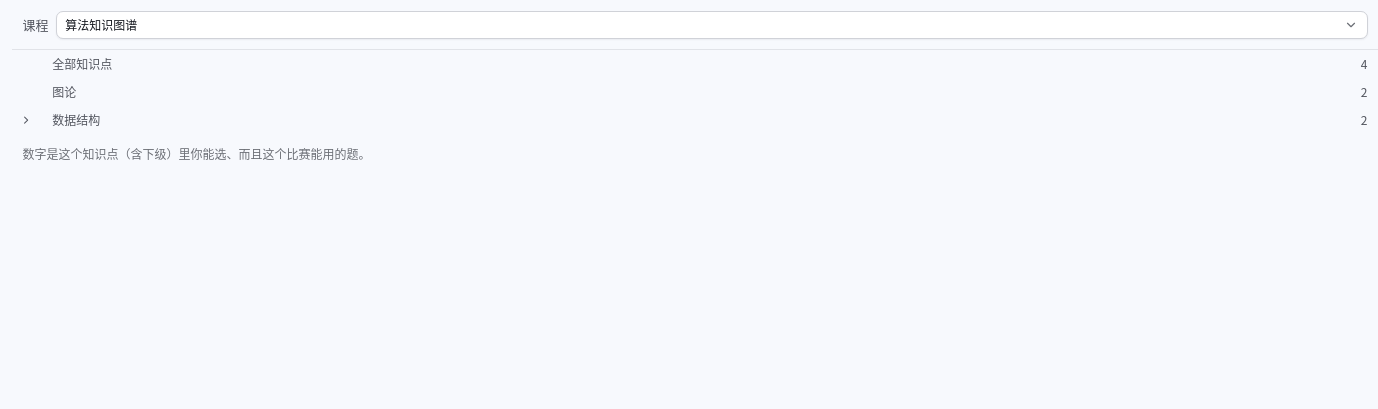
Scenario: compose bank pane › marks problems already in the paper with a disabled check and a check icon
The image size is (1378, 409).
Step 1. Click the button "图论" → (64,92), box 44,78 -> 1357,106
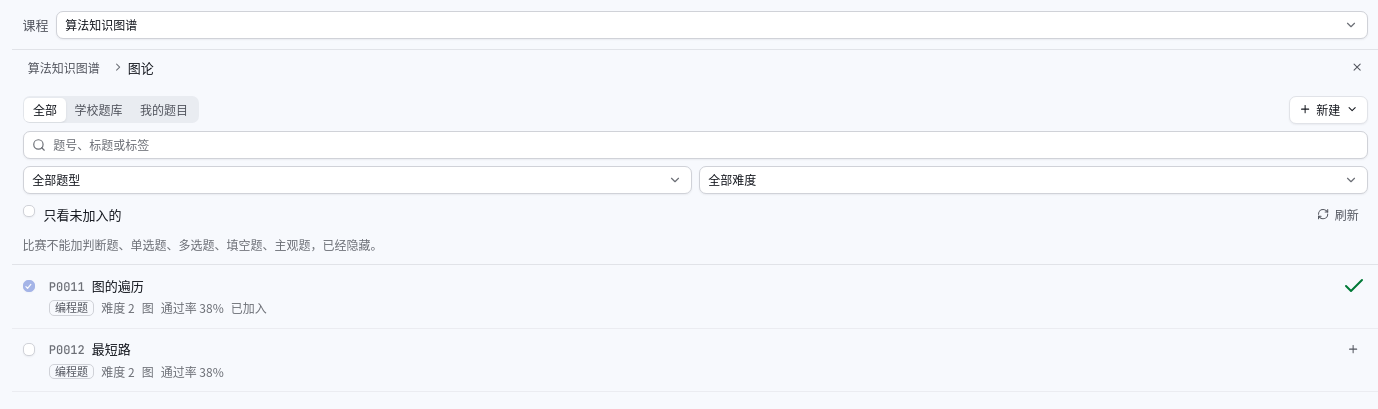
Now the checkbox named "选择 P0011" is checked, box 22,280 -> 35,292
Now the checkbox named "选择 P0011" is disabled, box 22,280 -> 35,292
Now the checkbox named "选择 P0012" is enabled, box 22,343 -> 35,356
